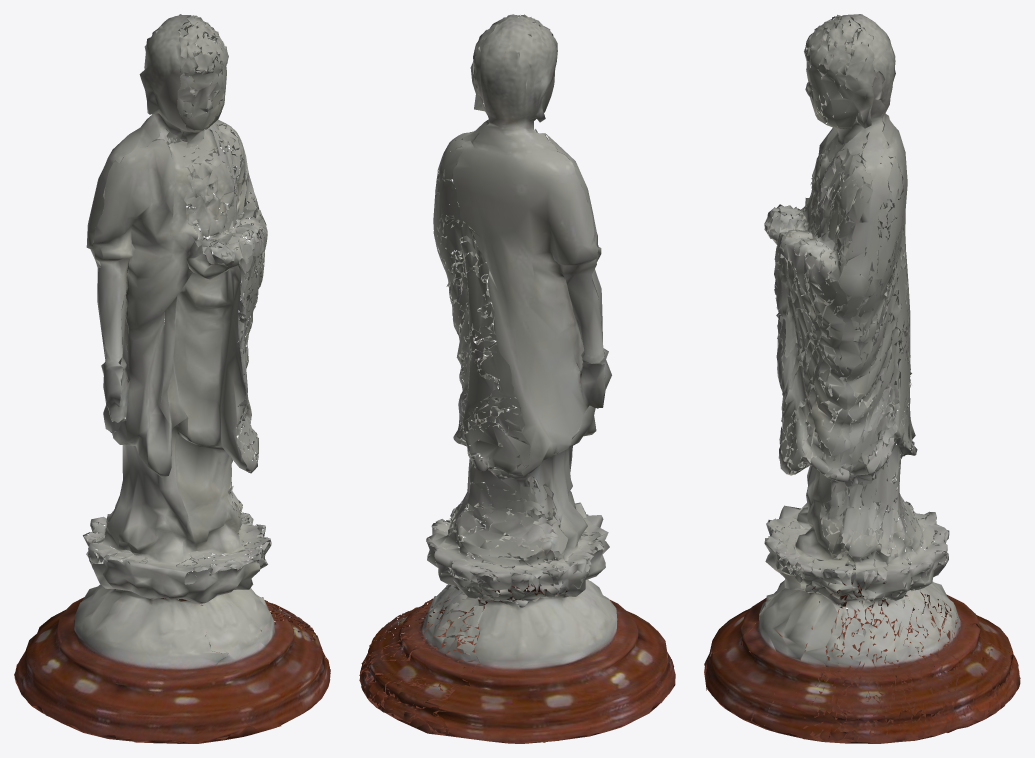
The picture shows the model from 3 angles, left to right: view 1: azimuth 30°, elevation 25°; view 2: azimuth 150°, elevation 25°; view 3: azimuth 270°, elevation 25°; orthographic projection.
Parts seen in each view (by area): view 1: statue-017; view 2: statue-017; view 3: statue-017.
Boxes of the visible parts, x1,y1,x2,y2 form: statue-017: (14, 14, 330, 743); statue-017: (359, 14, 675, 743); statue-017: (704, 14, 1020, 743).
Bounding box in the file's own units: 0.434 × 1 × 0.4319.
Materials: 1 (1 with a texture image).
